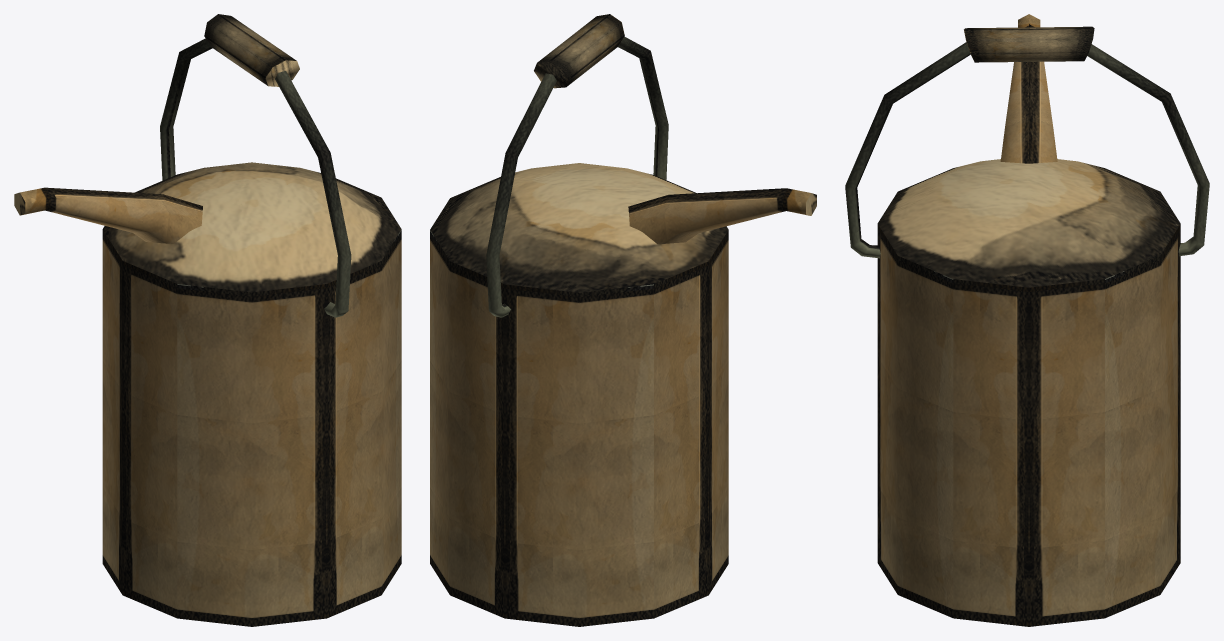
The model's file is Petroleum.fbx.
3 views of the same model, side by side, from view 1: azimuth 30°, elevation 25°; view 2: azimuth 150°, elevation 25°; view 3: azimuth 270°, elevation 25° (orthographic).
Parts seen in each view (by area): view 1: Petrolium; view 2: Petrolium; view 3: Petrolium.
Part boxes in pixels (<box>): Petrolium: <box>14,14,401,626</box>; Petrolium: <box>430,14,816,626</box>; Petrolium: <box>845,14,1209,626</box>.
Bounding box in the file's own units: 0.8532 × 1.19 × 0.7342.
